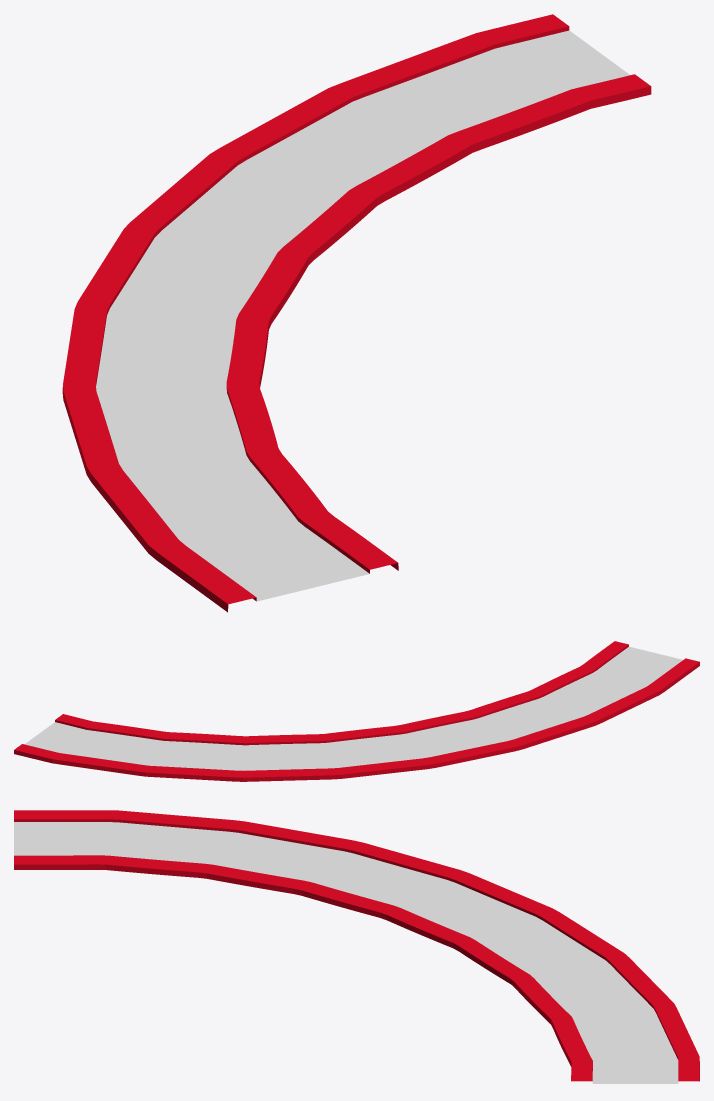
Rendered from road_quarter.glb.
3 renders of one model, top to bottom at view 1: azimuth 30°, elevation 25°; view 2: azimuth 150°, elevation 25°; view 3: azimuth 270°, elevation 25°, orthographic. The views are drawn at different scales.
Parts seen in each view (by area): view 1: road_quarter; view 2: road_quarter; view 3: road_quarter.
Part boxes in pixels (<box>): road_quarter: <box>62,14,651,612</box>; road_quarter: <box>14,641,699,781</box>; road_quarter: <box>14,810,699,1083</box>.
Size of the model in its own units: 12.2 by 0.113 by 13.04.
